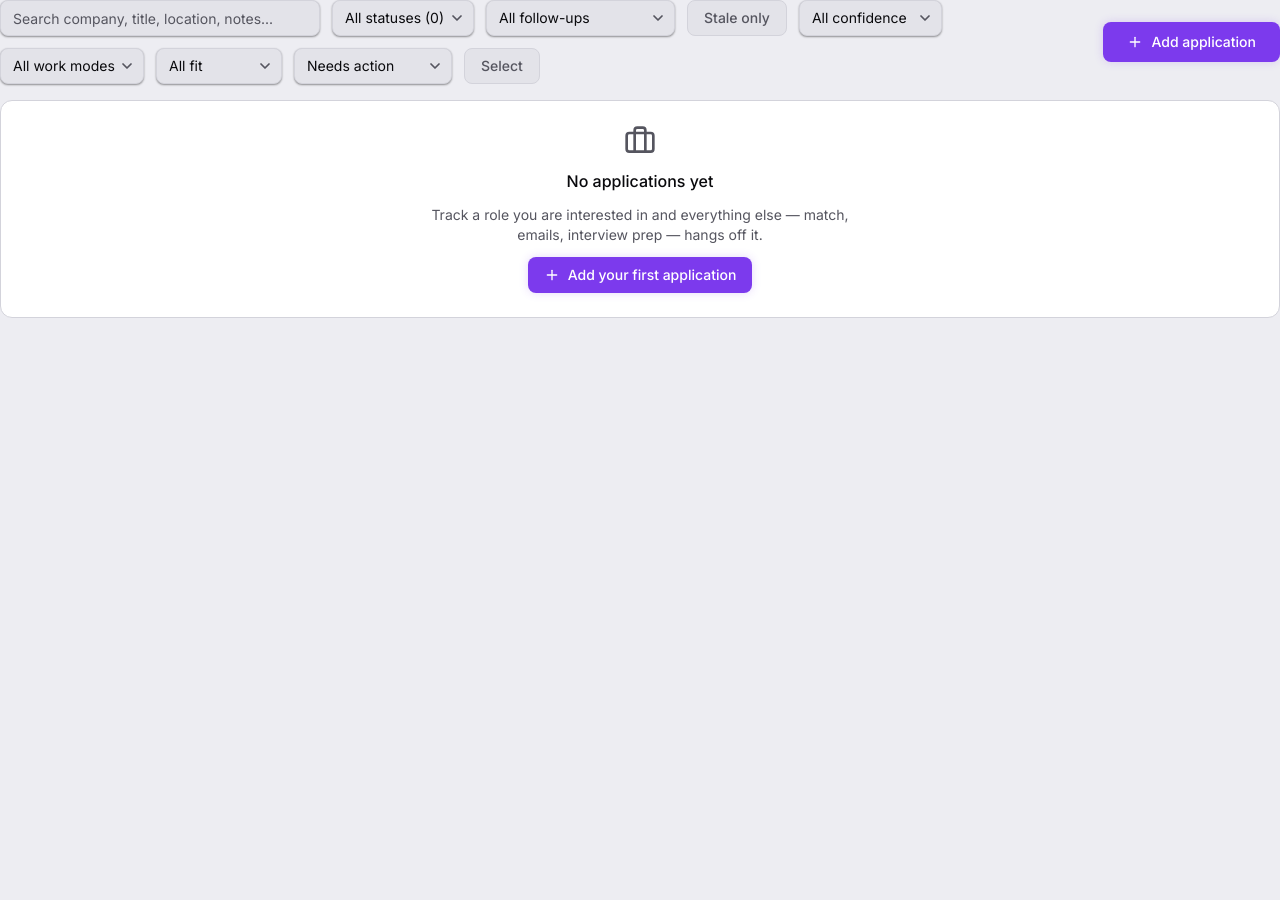
Scenario: JobApplicationList grid › opens the create dialog from the empty state CTA
The image size is (1280, 900).
Step 1. Click the button "Add your first application" → (640, 275), box [528,257,752,293]
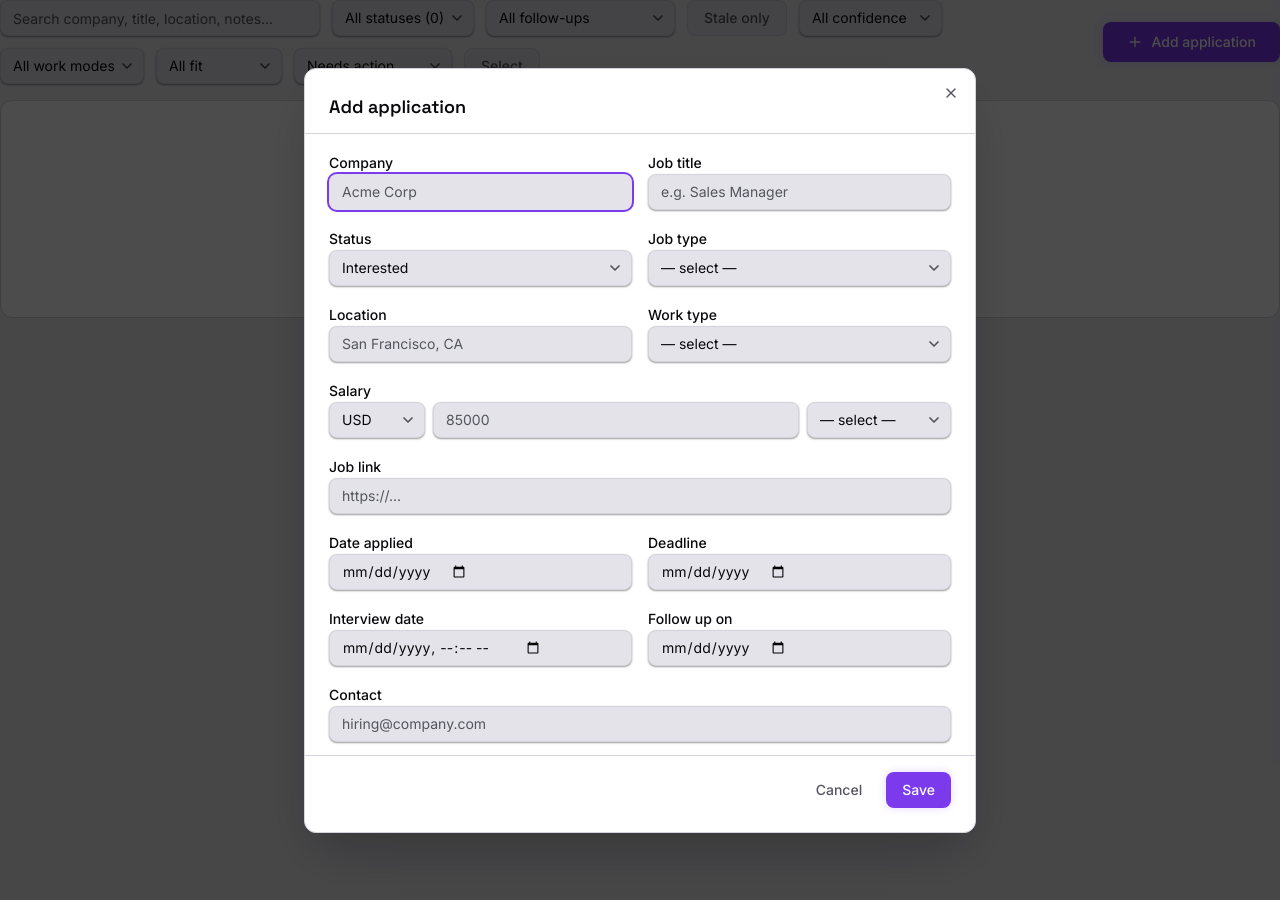
Check: the dialog is shown, box [304,68,976,832]
Check: the field labelled "Company" is shown, box [329,174,632,210]
